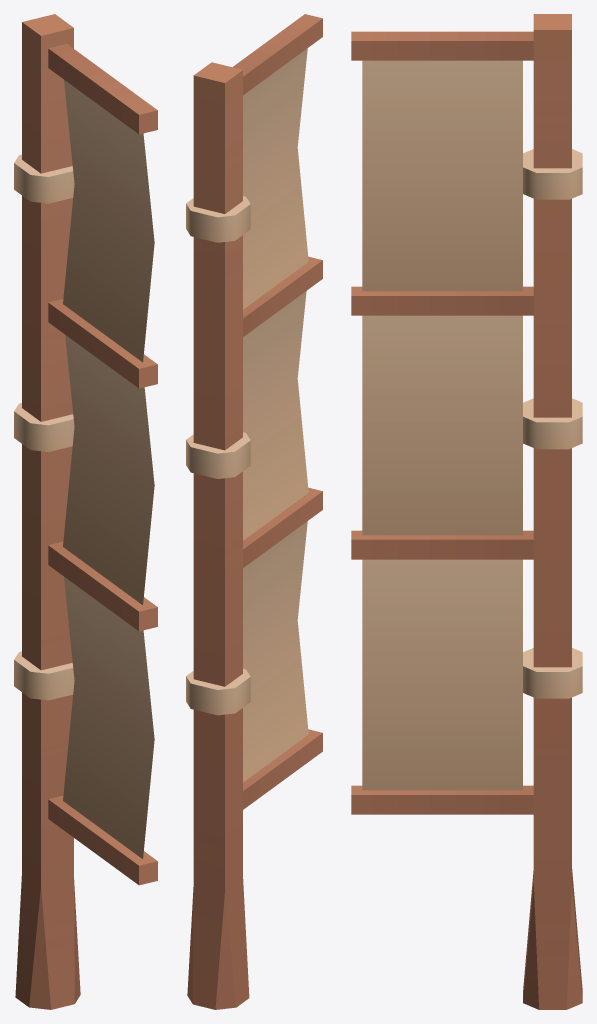
The model's file is blade.glb.
The picture shows the model from 3 angles, left to right: view 1: azimuth 30°, elevation 25°; view 2: azimuth 150°, elevation 25°; view 3: azimuth 270°, elevation 25°; orthographic projection. The views are drawn at different scales.
Visible parts, largest first — view 1: blade; view 2: blade; view 3: blade.
Boxes of the visible parts, x1,y1,x2,y2 form: blade: (14,14,157,1009); blade: (186,14,322,1009); blade: (351,14,582,1009).
Bounding box in the file's own units: 0.1111 × 2 × 0.4304.
1 material, 1 textured.
